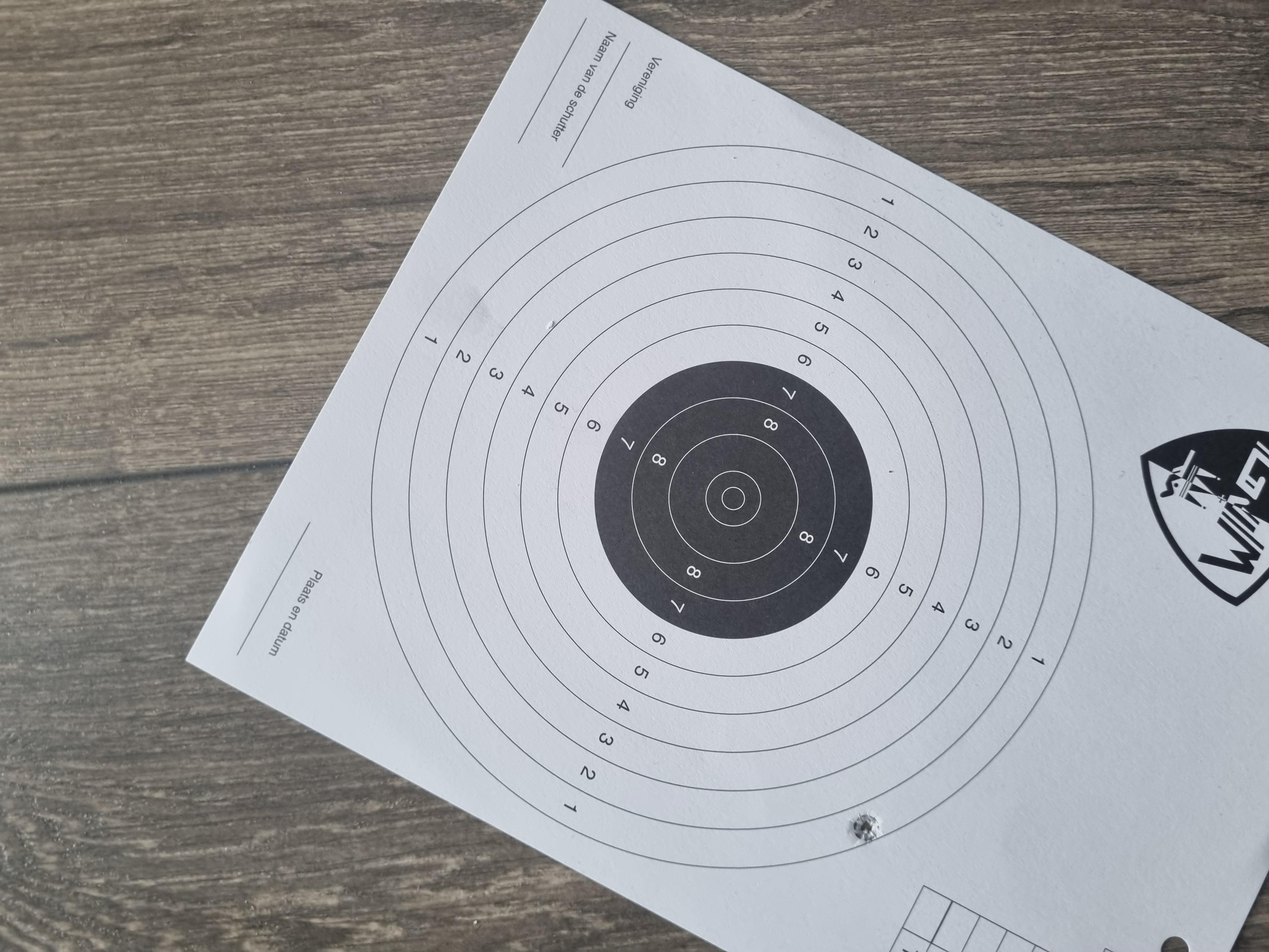hole: (145, 636, 189, 661)
